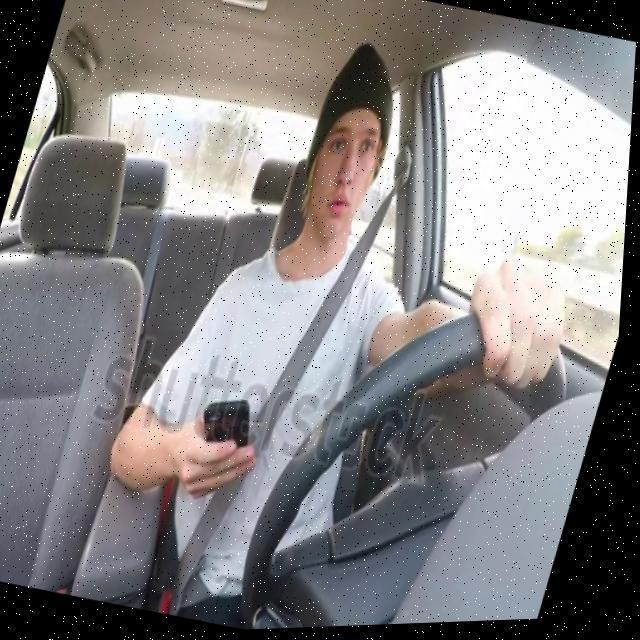PhoneCall: (188, 389, 268, 492)
